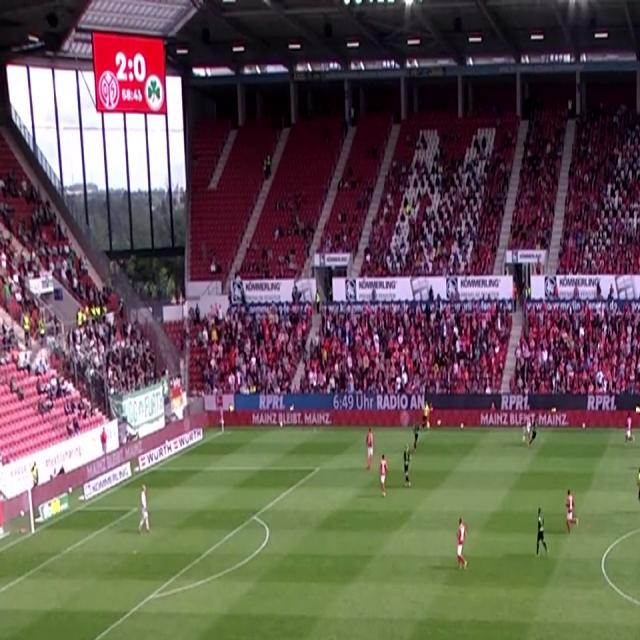ball: (284, 34, 305, 54)
goalkeeper: (132, 478, 156, 538)
referee: (631, 462, 640, 519)
soccer-player: (448, 511, 473, 573), (532, 502, 556, 560), (408, 398, 428, 454), (373, 449, 394, 500), (523, 404, 546, 450), (561, 485, 582, 534), (399, 442, 418, 489)
